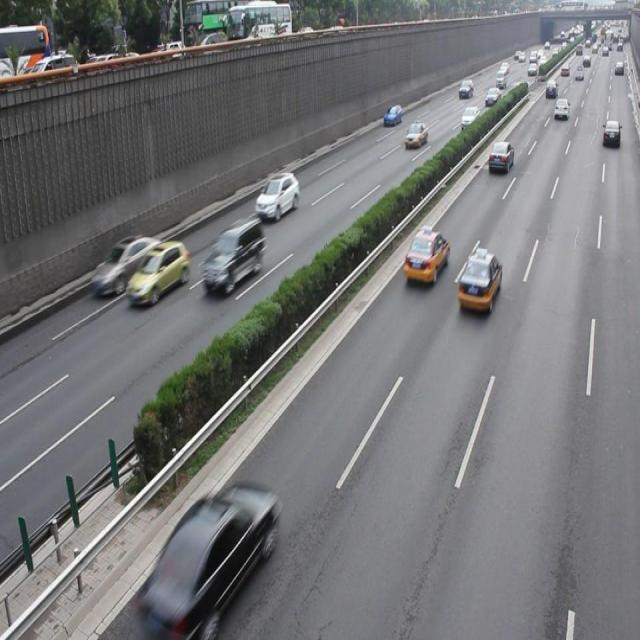car: (140, 477, 276, 640), (201, 215, 265, 295), (90, 232, 162, 294), (125, 240, 190, 304), (456, 248, 501, 315), (404, 225, 448, 283), (256, 169, 300, 220), (488, 139, 513, 173)
